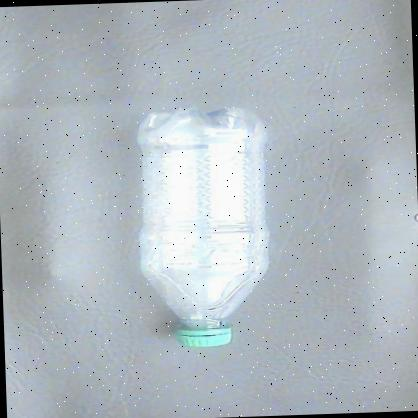bottle: (124, 101, 283, 352)
cap: (163, 316, 238, 350)
